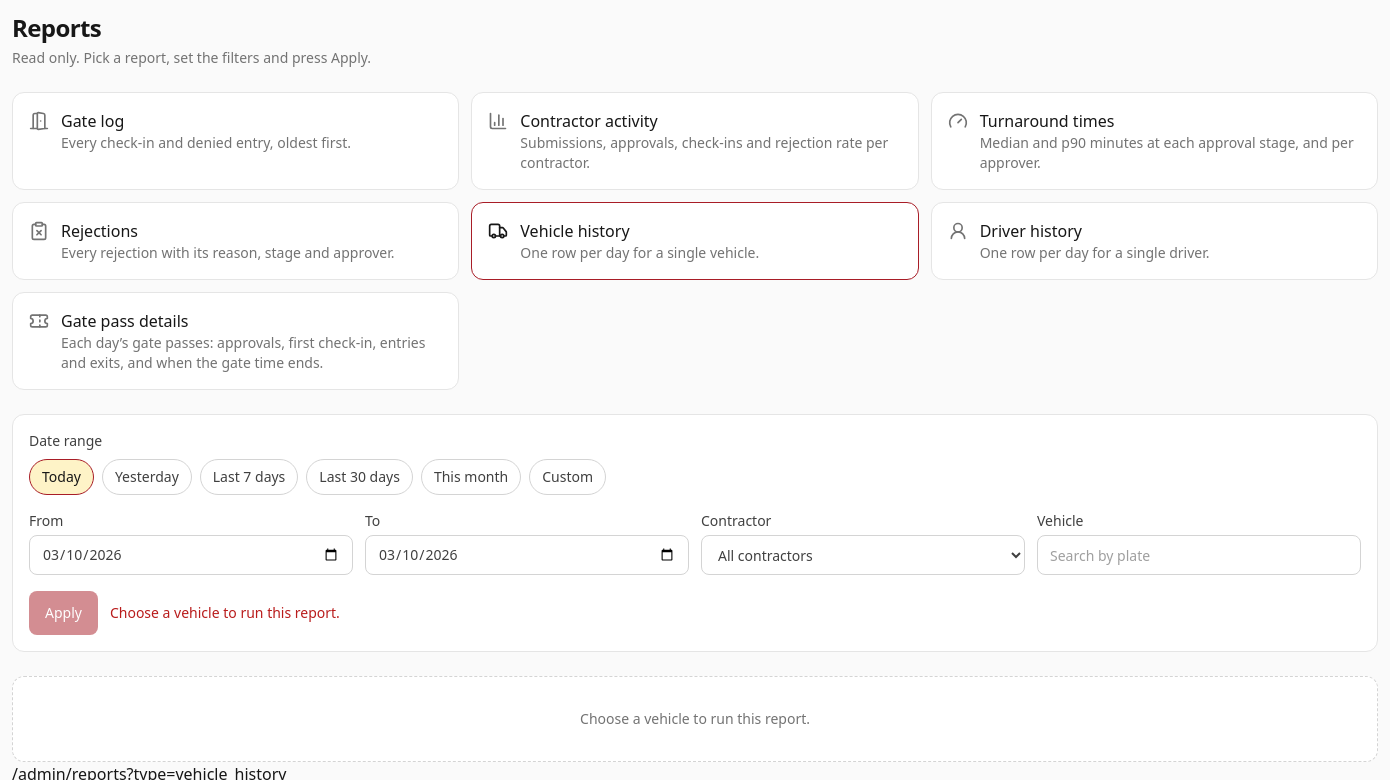
Test: ReportsPage › a history report waits for a vehicle, and a range over 92 days cannot be applied
Expected: the 2nd text "Choose a vehicle to run this report." is shown, [12,676,1378,762]
Type "cab" into the dropdown labelled "Vehicle" at (1199, 555), box [1037,535,1361,575]
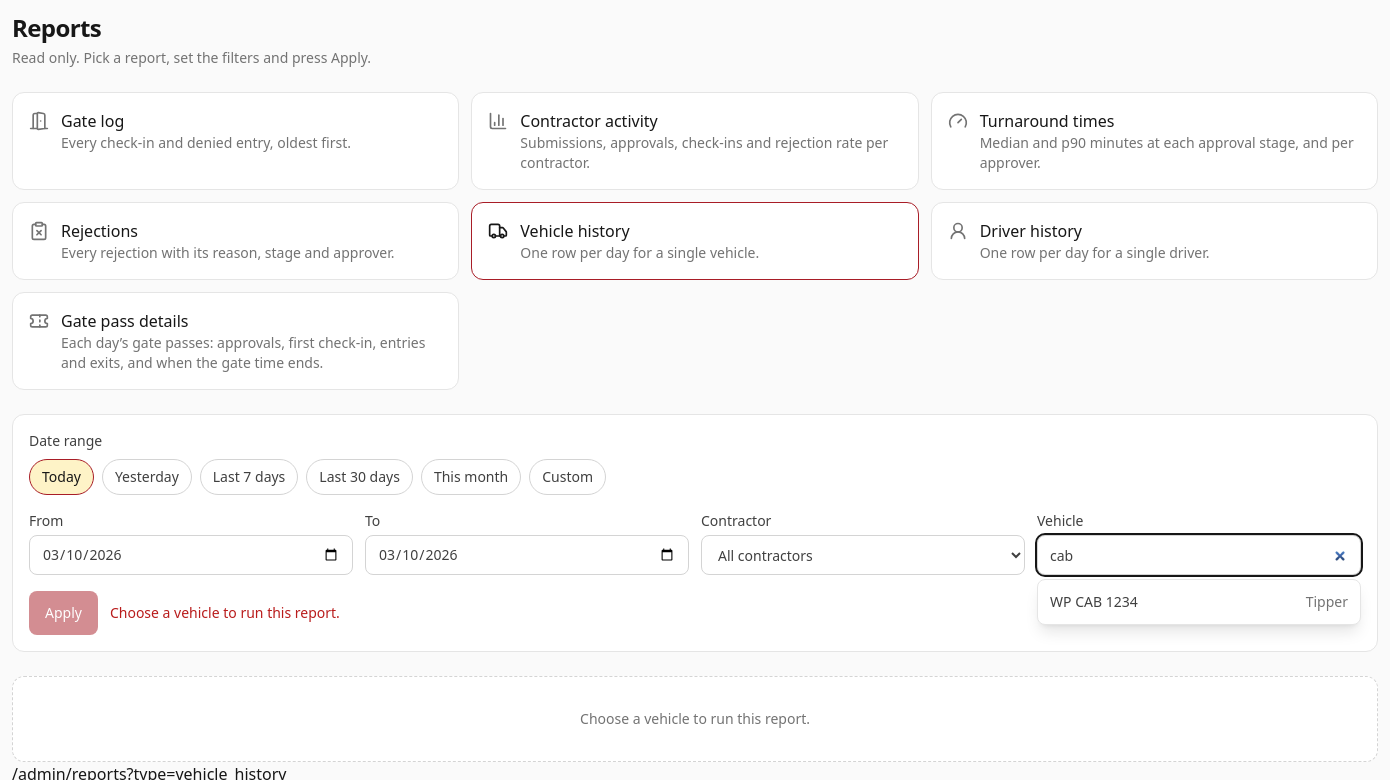
Click the button "WP CAB 1234 Tipper" at (1094, 602), box [1038,584,1360,620]
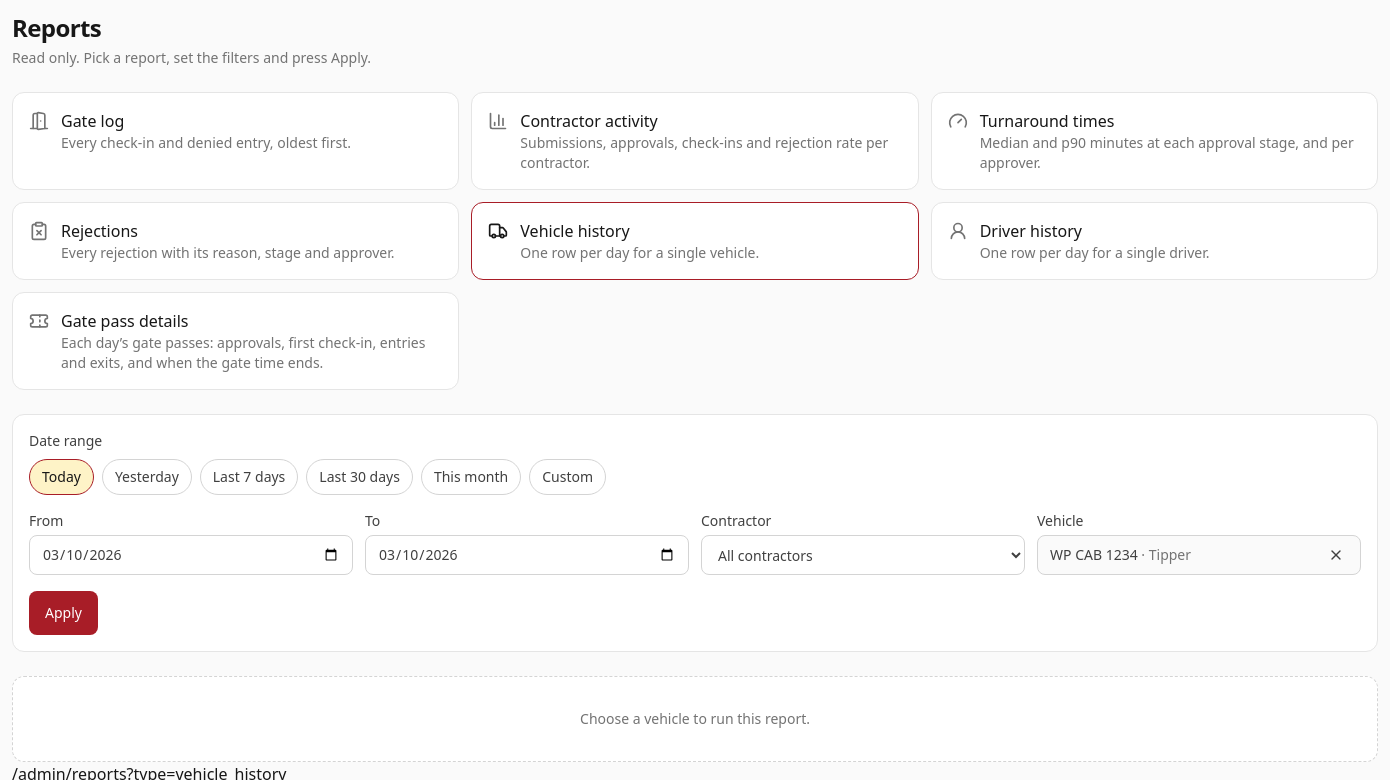
Click the button "Apply" at (63, 613), box [29,591,98,635]
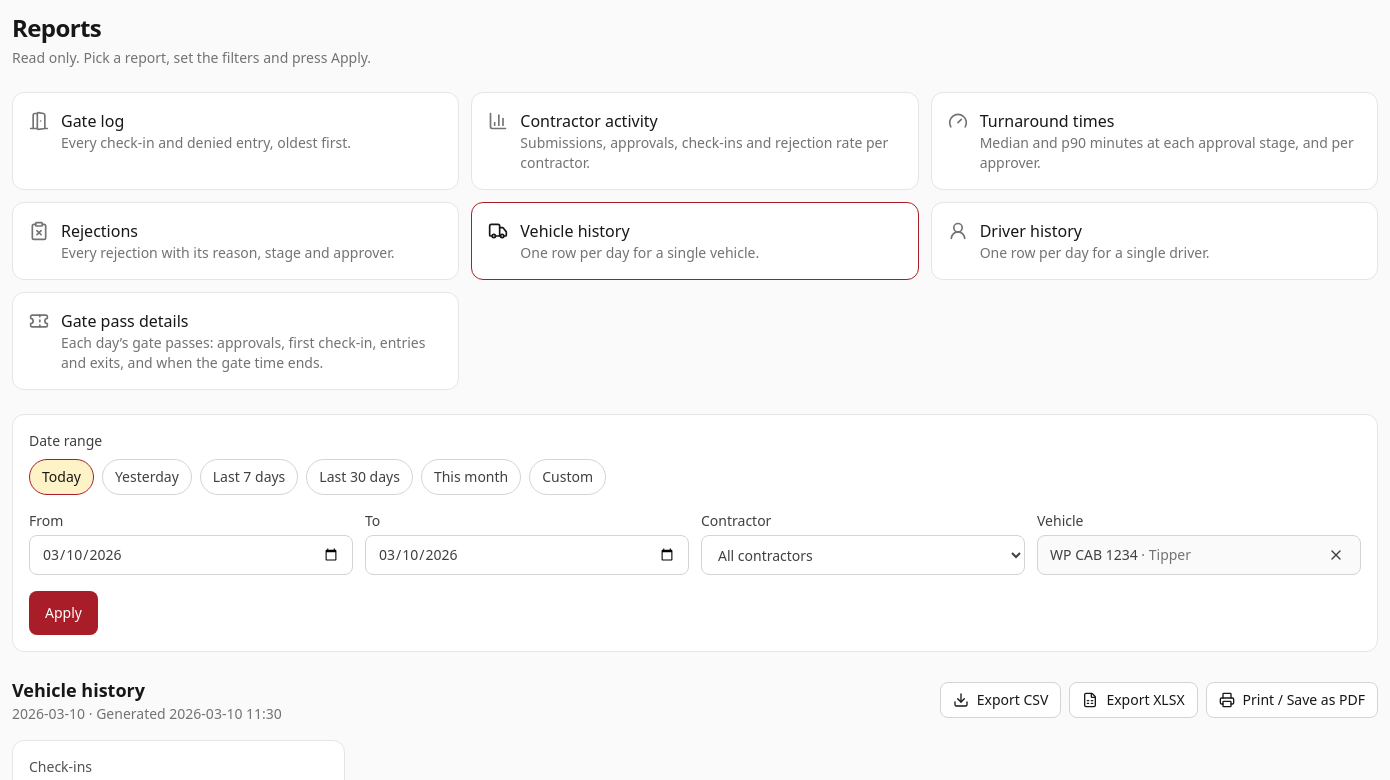
Type "2025-01-01" into the date field labelled "From" at (191, 555), box [29,535,353,575]
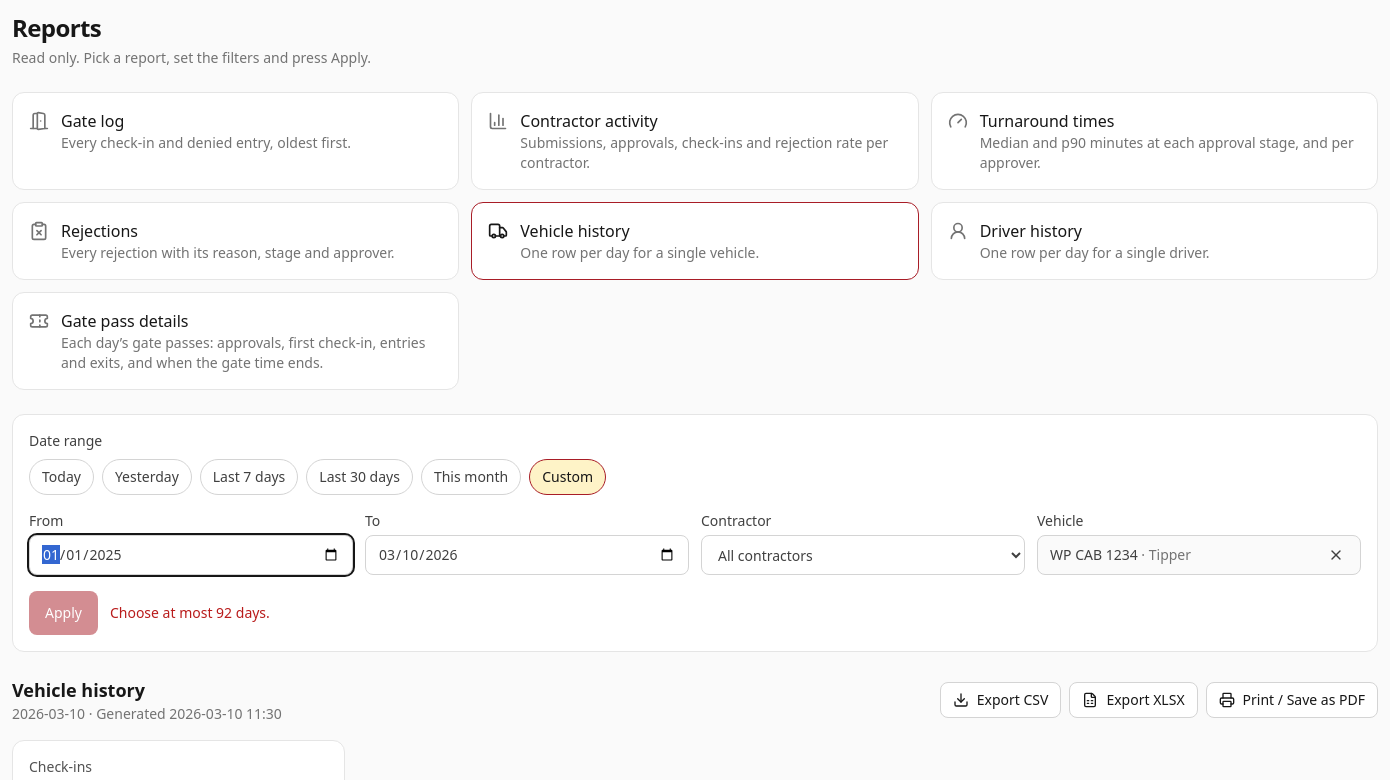
Now the button "Apply" is disabled, box [29,591,98,635]
Now the message shows "at most 92 days", box [110,603,270,622]
